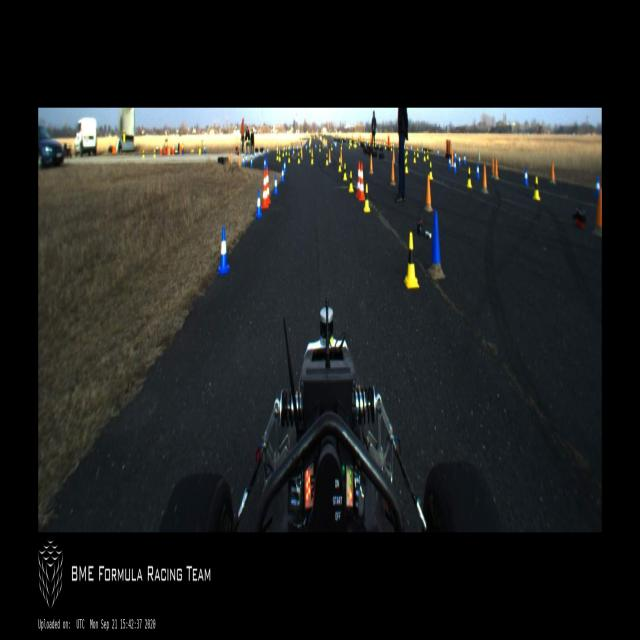blue_cone: (217, 226, 230, 272), (255, 189, 262, 217), (594, 176, 600, 198), (274, 174, 278, 194), (524, 168, 528, 185), (281, 166, 285, 182), (453, 158, 457, 173), (476, 164, 480, 178), (448, 156, 452, 169), (457, 154, 461, 166), (454, 151, 457, 163), (463, 154, 466, 165), (264, 157, 267, 168), (284, 158, 286, 174), (242, 156, 245, 166), (245, 154, 248, 164), (250, 158, 252, 168), (250, 152, 252, 162), (254, 151, 256, 160), (421, 145, 423, 154), (258, 149, 260, 158), (263, 147, 265, 156), (267, 146, 269, 155), (324, 142, 326, 151), (315, 142, 317, 150), (305, 142, 307, 150), (335, 140, 337, 148), (410, 144, 412, 152), (437, 149, 439, 156), (334, 139, 334, 146)
large_orange_cone: (358, 162, 366, 202), (261, 169, 269, 209), (355, 162, 361, 198), (266, 168, 271, 205)
yellow_cone: (404, 232, 420, 288), (364, 185, 371, 212), (533, 176, 541, 199), (467, 166, 472, 188), (349, 172, 354, 192), (429, 160, 434, 179), (405, 155, 409, 173), (343, 163, 347, 180), (338, 157, 342, 172), (325, 152, 329, 166), (412, 149, 416, 162), (297, 152, 300, 164), (423, 150, 426, 162), (278, 152, 281, 162), (404, 152, 407, 162), (405, 146, 408, 156), (426, 148, 428, 160), (288, 151, 290, 162), (311, 154, 313, 164), (285, 146, 287, 156), (331, 142, 333, 152), (416, 148, 418, 157), (276, 151, 278, 160), (282, 148, 284, 157), (354, 139, 356, 148), (309, 144, 311, 152), (379, 140, 381, 148), (319, 144, 321, 151), (384, 142, 386, 149), (348, 142, 350, 149), (364, 140, 366, 146), (341, 143, 342, 152), (391, 142, 392, 151), (375, 140, 376, 148), (369, 141, 370, 147), (354, 139, 354, 146), (356, 138, 356, 147)
